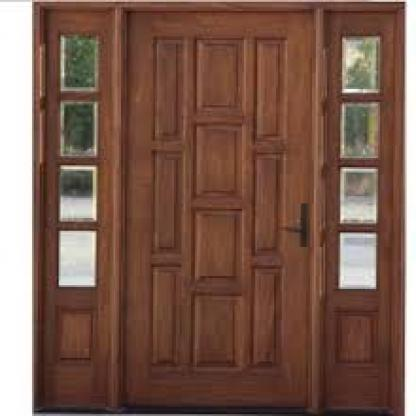door: (117, 9, 329, 412)
